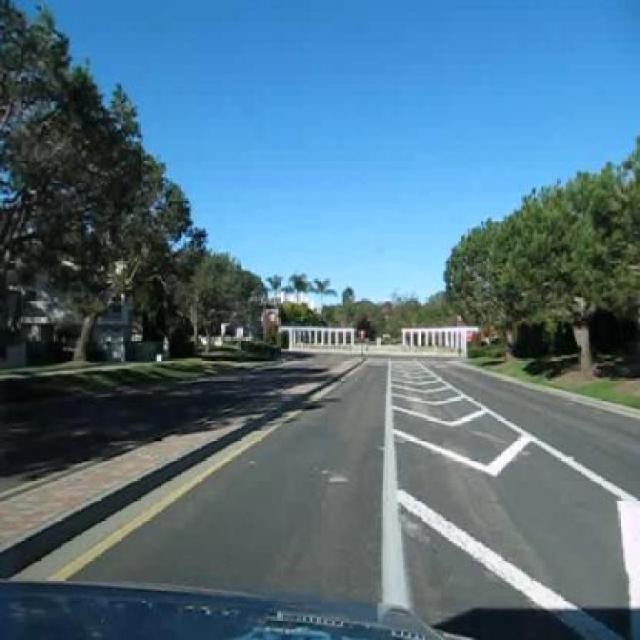stop: (465, 329, 473, 340), (358, 329, 364, 336)
